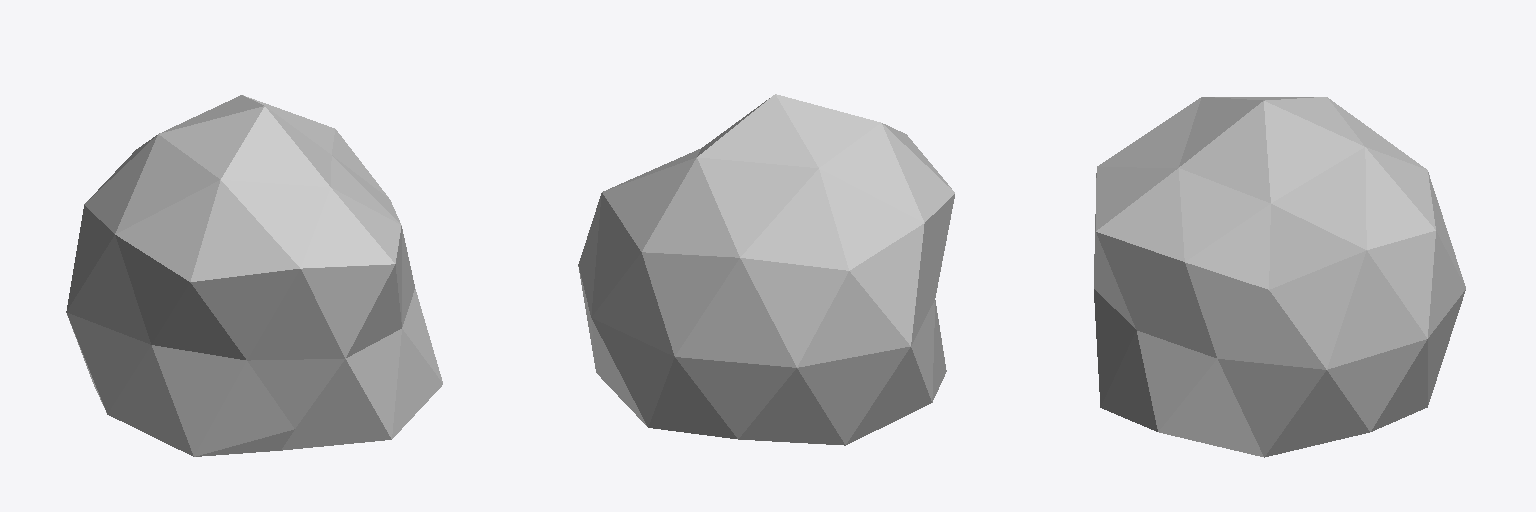
The model's file is blob.obj.
The picture shows the model from 3 angles: view 1: azimuth 30°, elevation 25°; view 2: azimuth 150°, elevation 25°; view 3: azimuth 270°, elevation 25°; orthographic projection.
Visible parts, largest first — view 1: Icosphere.001; view 2: Icosphere.001; view 3: Icosphere.001.
Part boxes in pixels (bbox=[...]): Icosphere.001: bbox=[66, 95, 442, 456]; Icosphere.001: bbox=[578, 94, 954, 445]; Icosphere.001: bbox=[1094, 97, 1465, 457].
Size of the model in its own units: 0.9511 by 0.8513 by 0.9224.